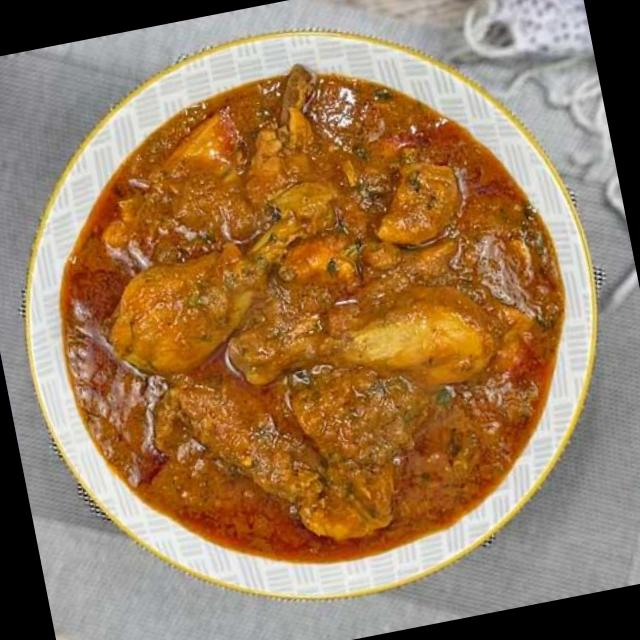chicken: (51, 44, 566, 578)
